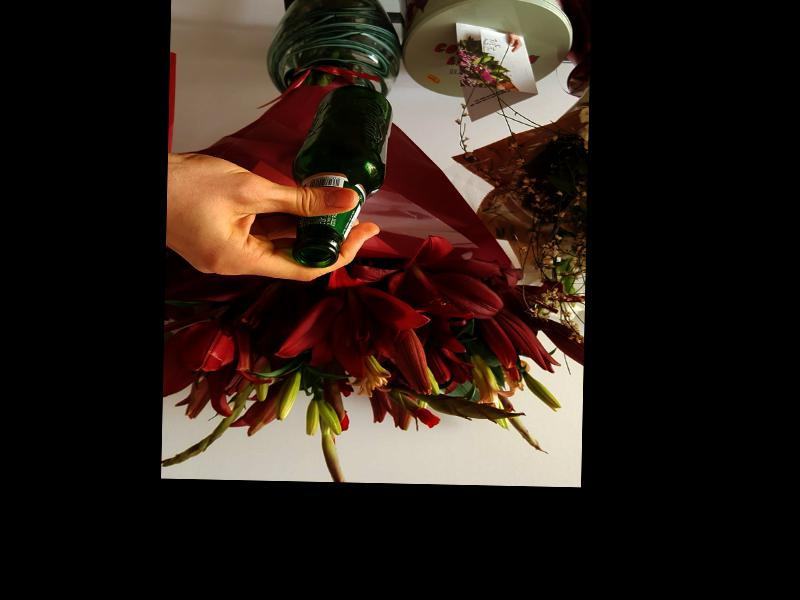Beer: (290, 84, 393, 268)
